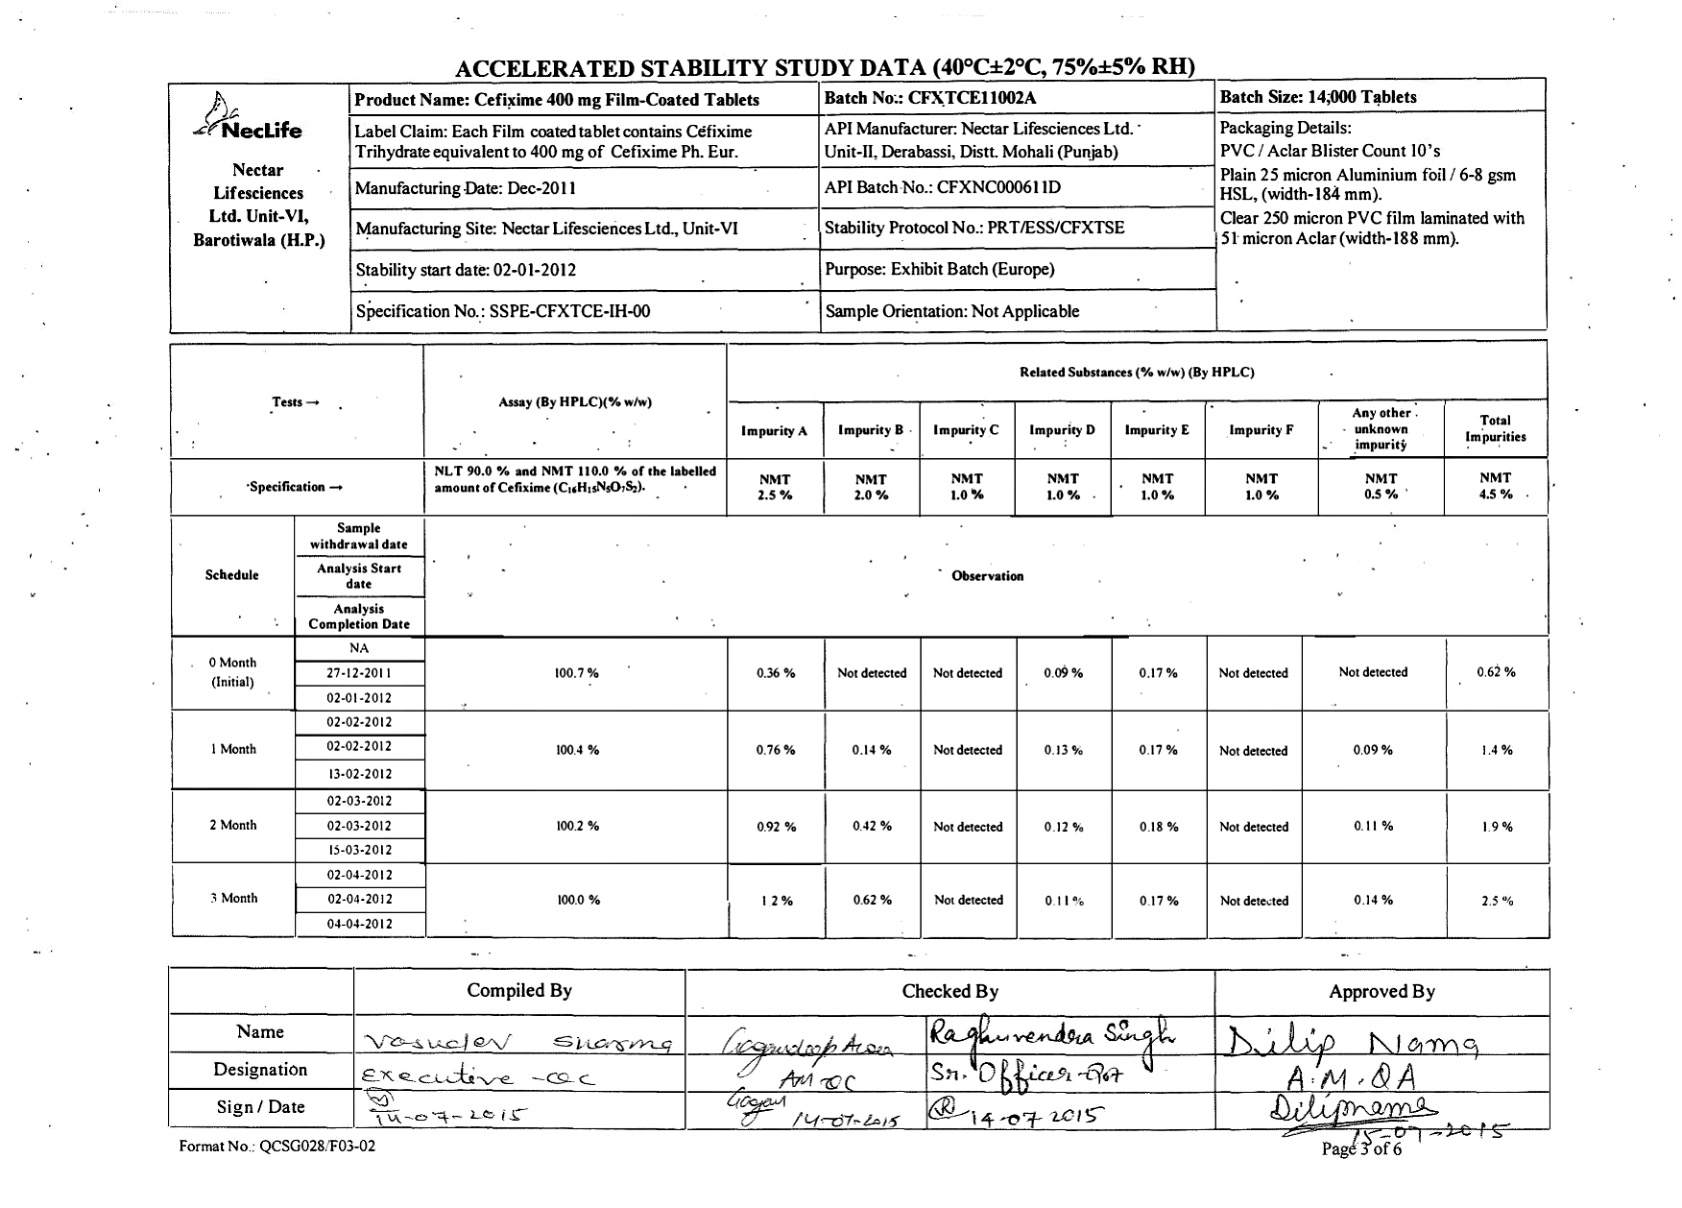full_lined: (166, 962, 1553, 1134)
merged_cells: (168, 342, 1551, 940), (167, 76, 1550, 333)
